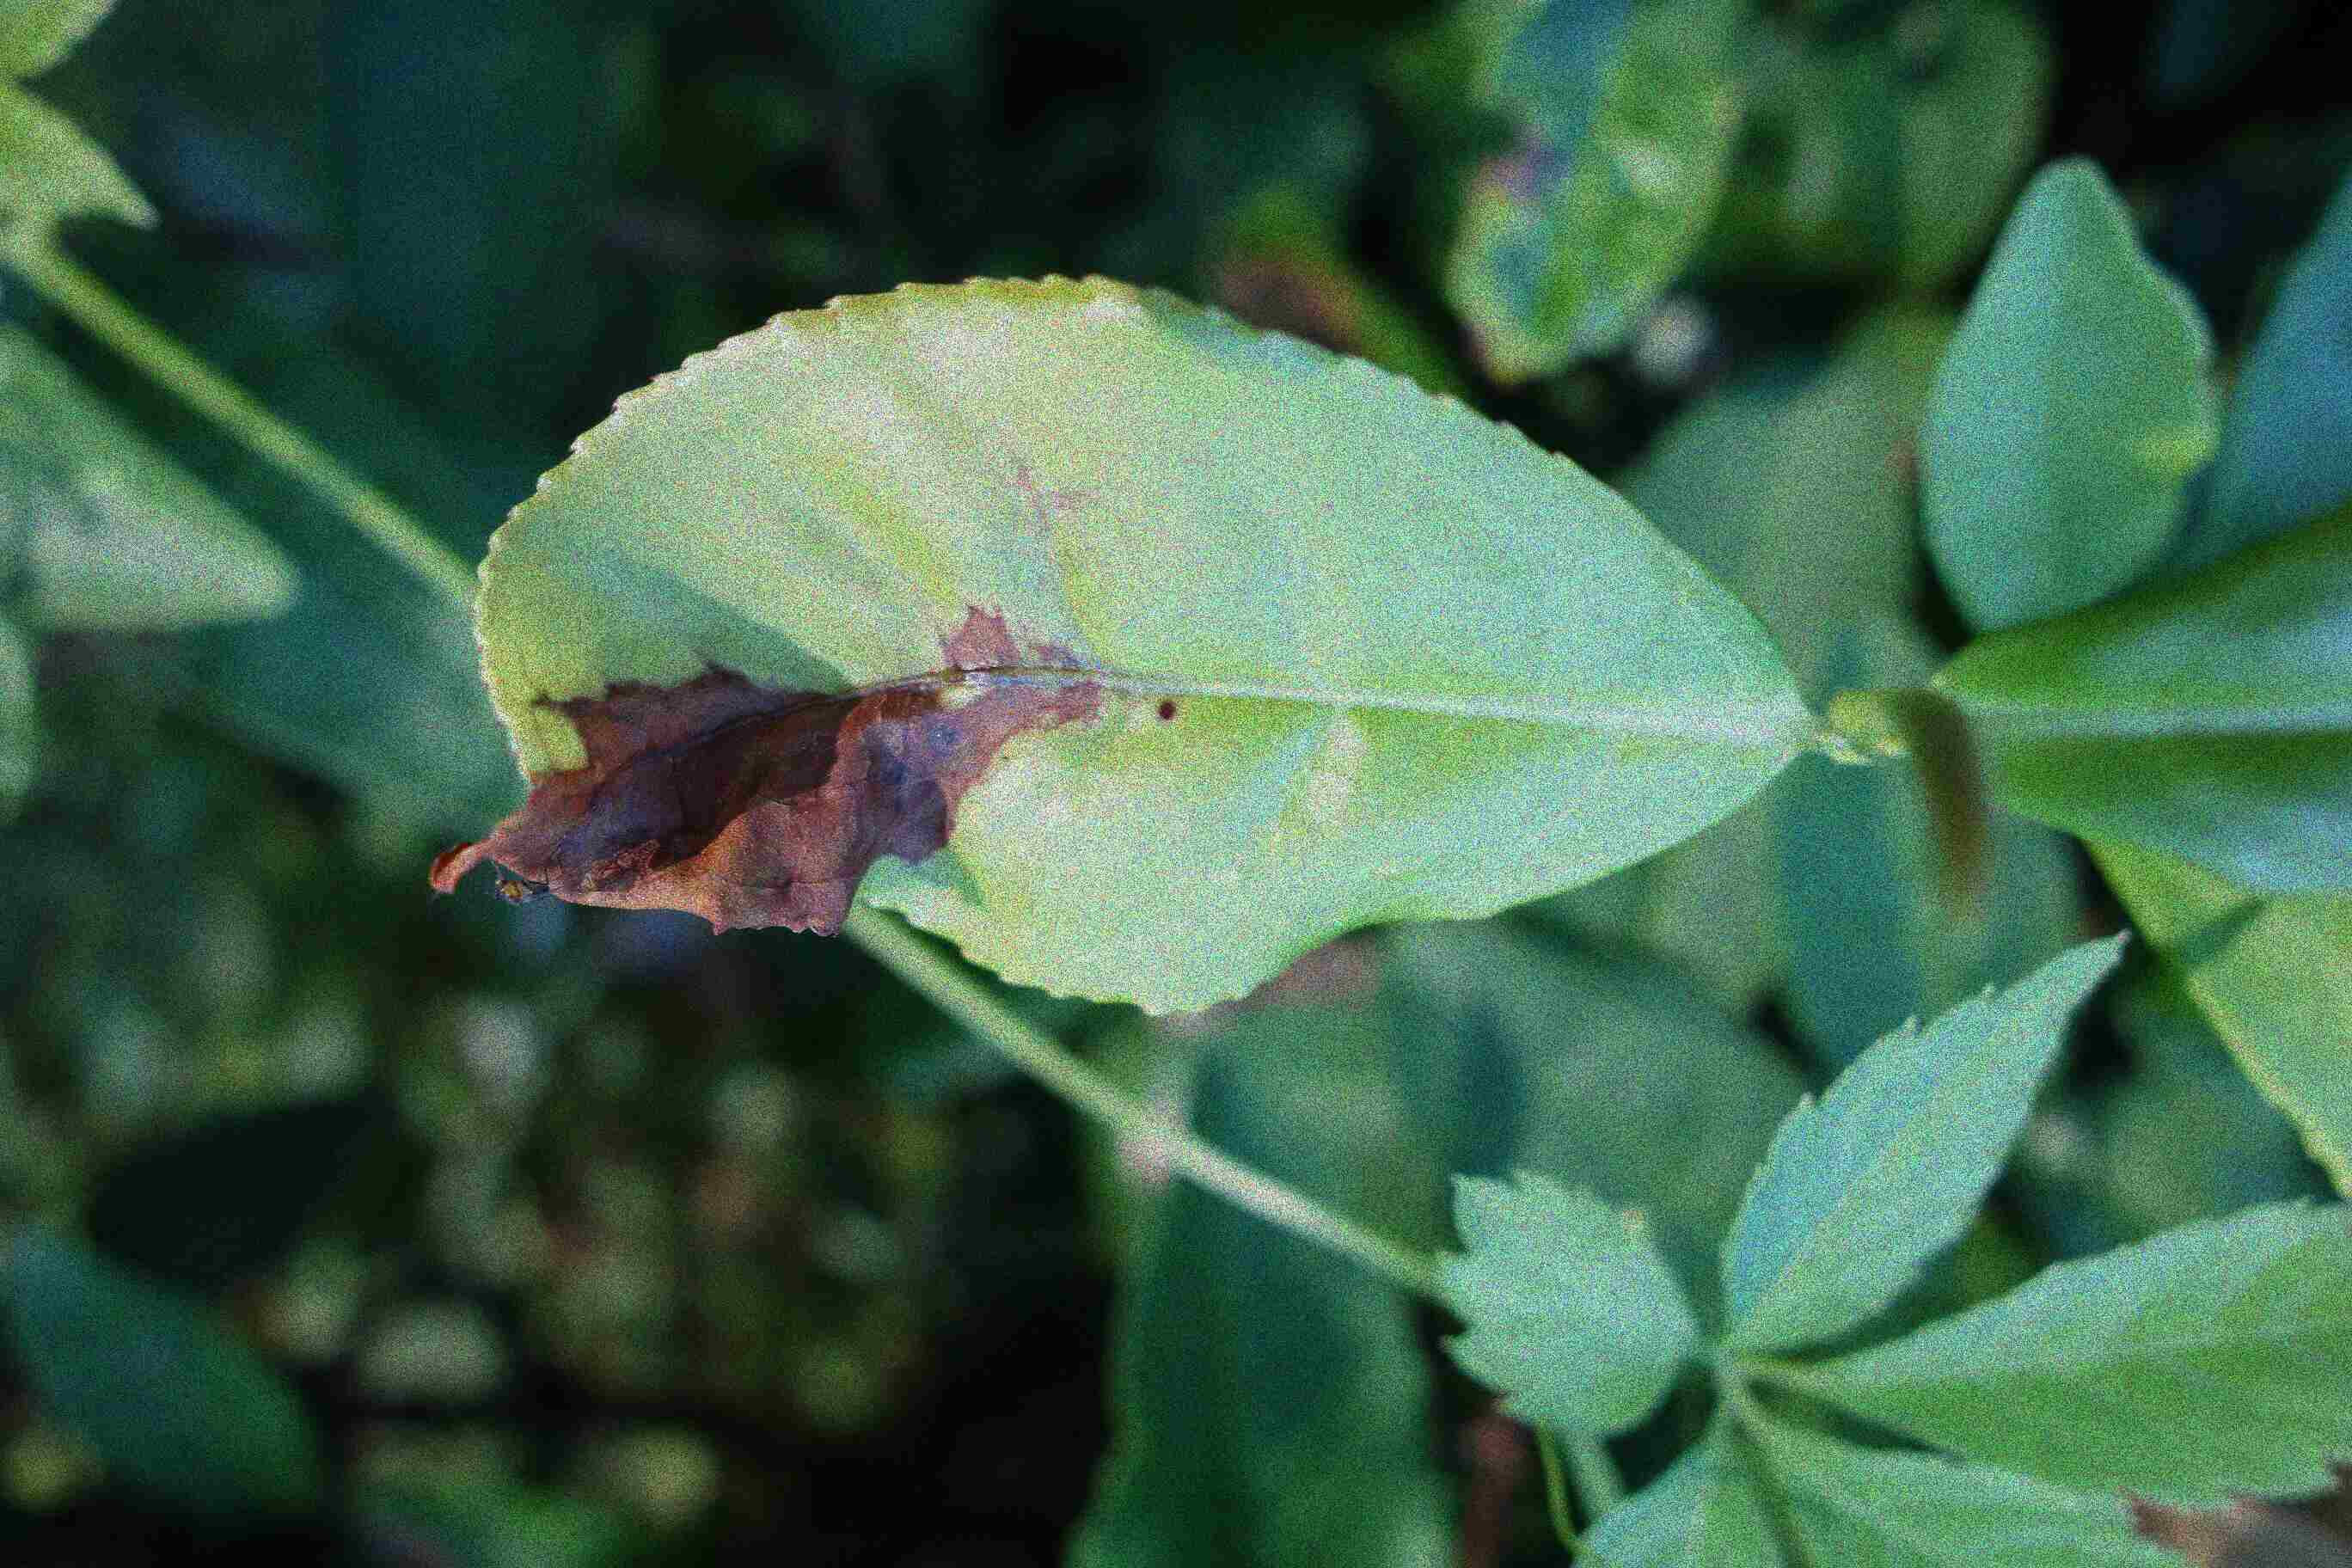tanju_high: (413, 266, 1813, 1013)
